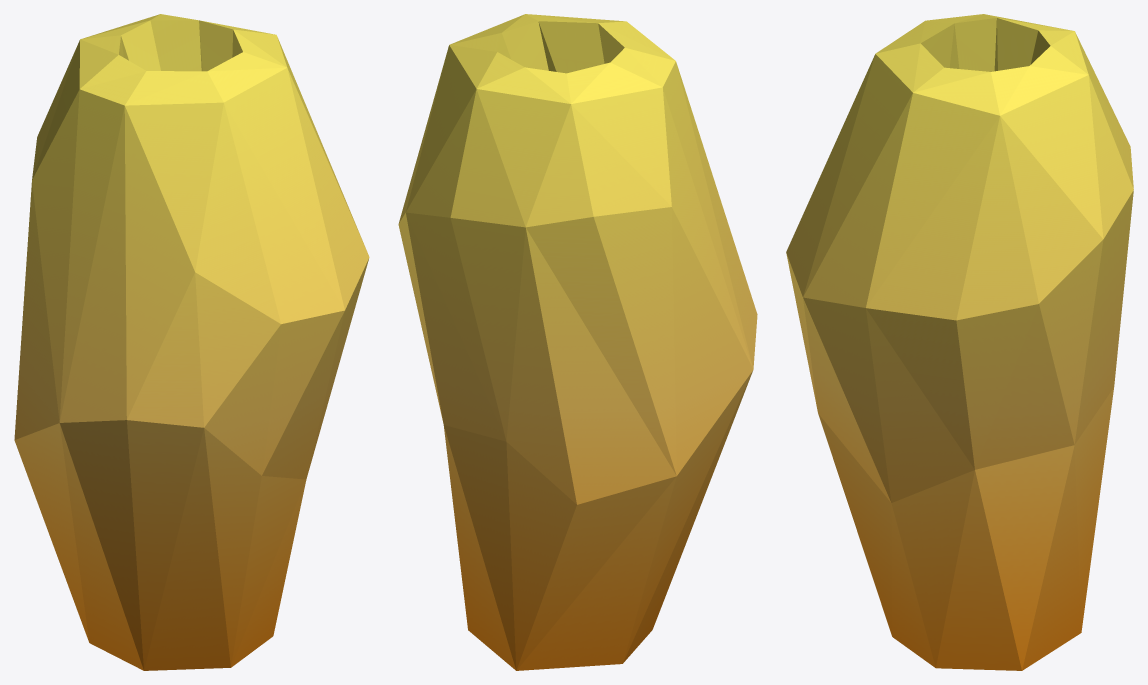
File: SM_Spongia_6.fbx
3 views of the same model, side by side, from view 1: azimuth 30°, elevation 25°; view 2: azimuth 150°, elevation 25°; view 3: azimuth 270°, elevation 25° (orthographic).
Visible parts, largest first — view 1: Spongia_6; view 2: Spongia_6; view 3: Spongia_6.
Part boxes in pixels (x1,y1,x2,y2): Spongia_6: (14, 14, 369, 670); Spongia_6: (398, 14, 757, 670); Spongia_6: (786, 14, 1133, 670).
Bounding box in the file's own units: 38.92 × 71.58 × 38.21.
